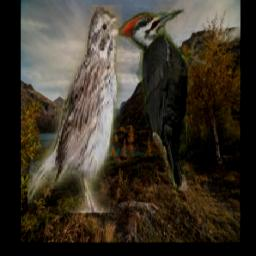Sparrow: (27, 5, 122, 213)
Woodpecker: (119, 8, 211, 191)
